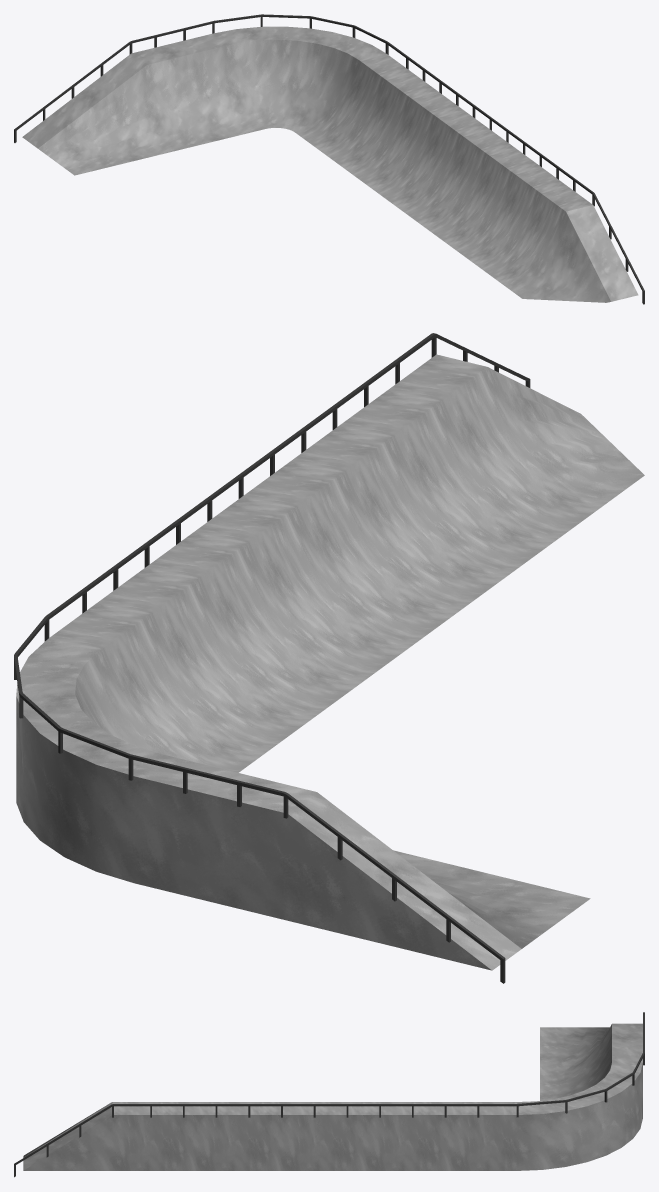
The model's file is CornerRampSmall.fbx.
3 views of the same model, one above another, from view 1: azimuth 30°, elevation 25°; view 2: azimuth 150°, elevation 25°; view 3: azimuth 270°, elevation 25° (orthographic). The views are drawn at different scales.
Parts seen in each view (by area): view 1: CornerRampSmall; view 2: CornerRampSmall; view 3: CornerRampSmall.
Boxes of the visible parts, x1,y1,x2,y2 form: CornerRampSmall: [14, 14, 644, 304]; CornerRampSmall: [14, 333, 644, 983]; CornerRampSmall: [14, 1012, 644, 1177].
Size of the model in its own units: 1134 by 261 by 2044.
